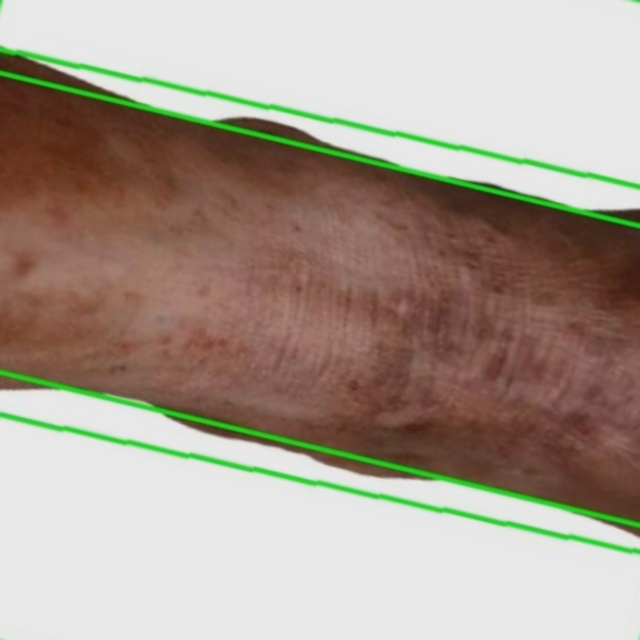Eczema: (0, 48, 639, 552), (0, 371, 639, 639)
